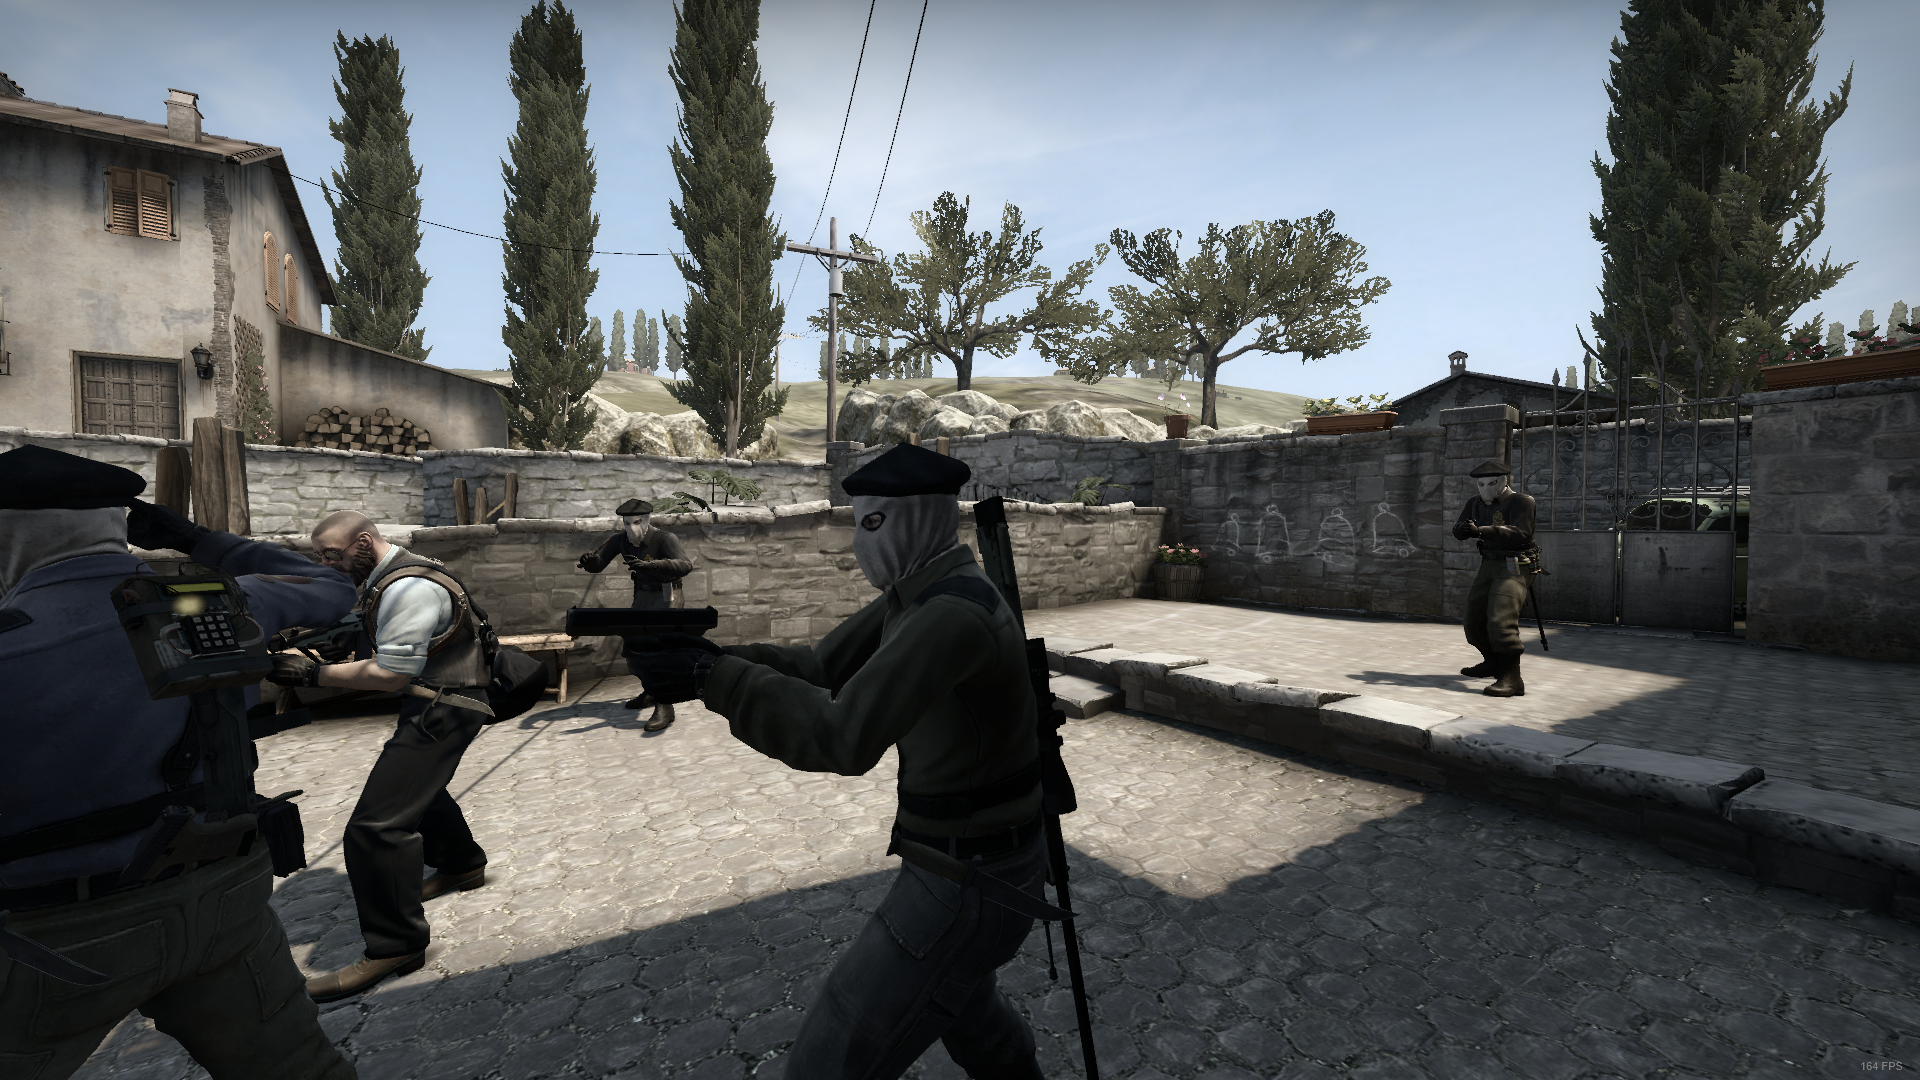t: (637, 442, 1056, 1080), (1, 444, 360, 1080), (575, 502, 692, 731), (1451, 462, 1539, 696)
